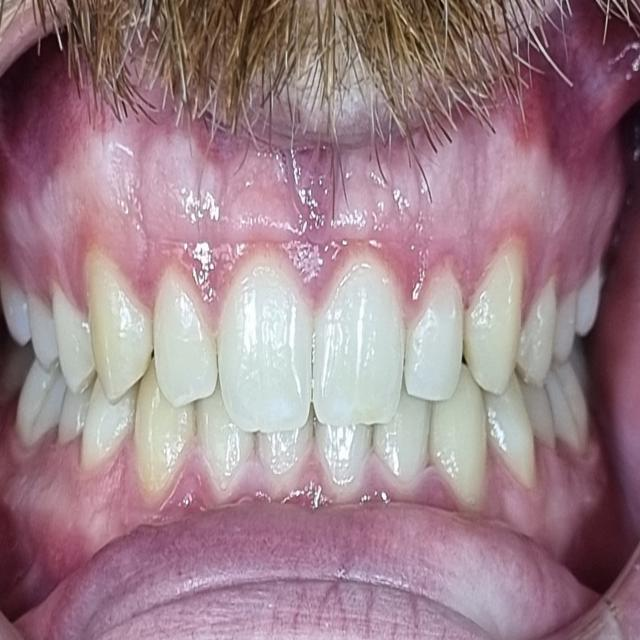tooth: (226, 253, 322, 430), (315, 263, 407, 424), (81, 247, 146, 392), (406, 272, 467, 399), (153, 261, 210, 395), (433, 399, 500, 509), (469, 246, 525, 375), (489, 386, 544, 476), (140, 380, 177, 487), (380, 413, 429, 493), (48, 280, 88, 374), (205, 398, 248, 483), (523, 282, 556, 379), (92, 387, 126, 474), (328, 428, 365, 494), (267, 421, 305, 478)
